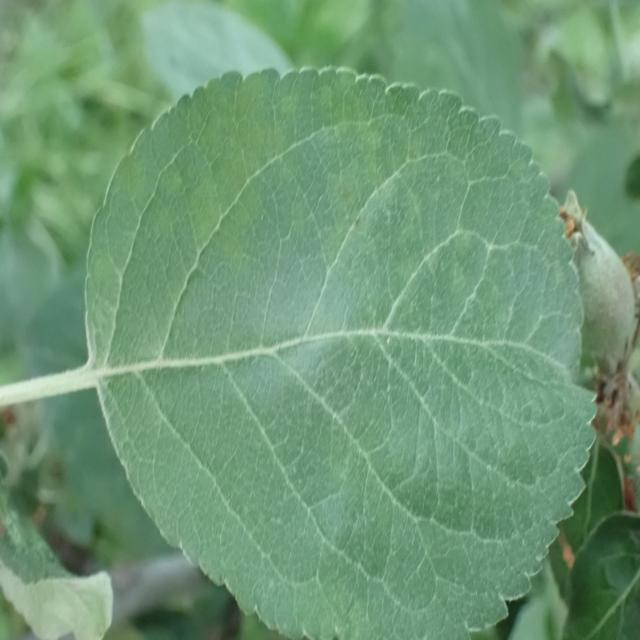scab: (93, 74, 547, 438)
